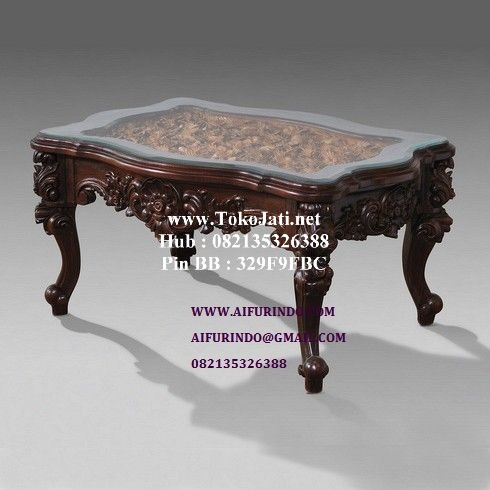Carving Table: (41, 97, 460, 364)
